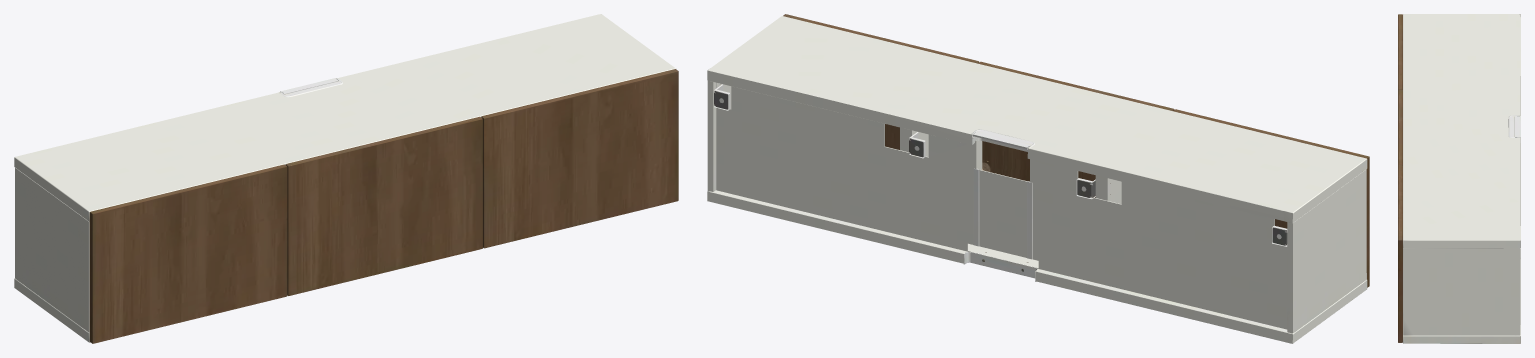
The picture shows the model from 3 angles, left to right: view 1: azimuth 30°, elevation 25°; view 2: azimuth 150°, elevation 25°; view 3: azimuth 270°, elevation 25°; orthographic projection. The views are drawn at different scales.
Visible parts, largest first — view 1: 19612180_TV_bench_with_doors.002; view 2: 19612180_TV_bench_with_doors.002; view 3: 19612180_TV_bench_with_doors.002.
Part boxes in pixels (x1,y1,x2,y2): 19612180_TV_bench_with_doors.002: [14, 14, 678, 343]; 19612180_TV_bench_with_doors.002: [707, 14, 1369, 343]; 19612180_TV_bench_with_doors.002: [1398, 14, 1520, 343].
Size of the model in its own units: 1.8 by 0.3874 by 0.412.
Materials: 1 (1 with a texture image).
